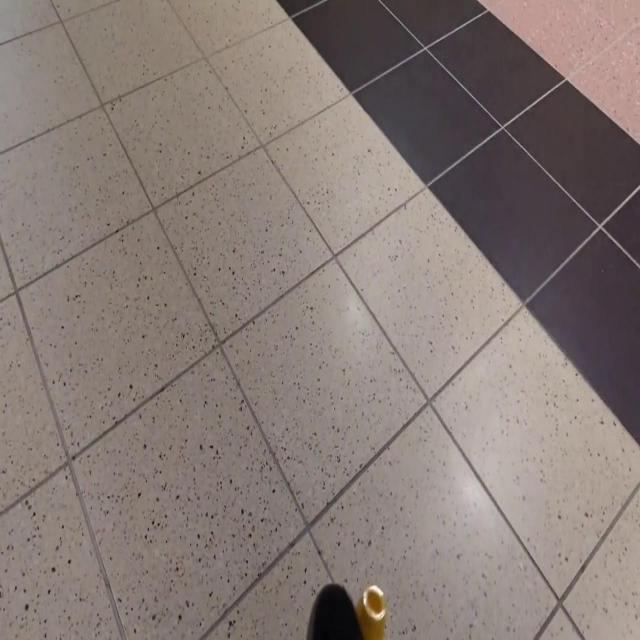frc_cone: (356, 577, 387, 640)
